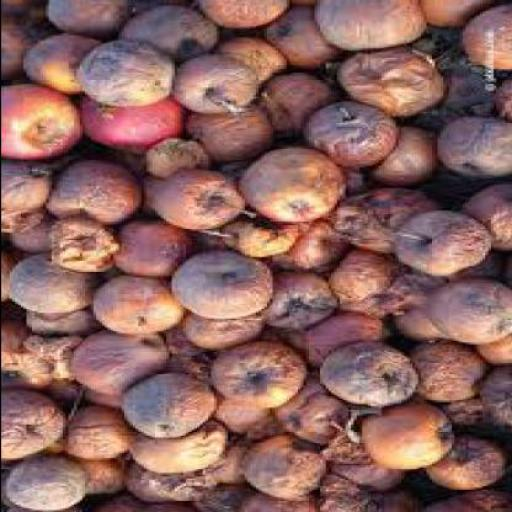biodegradable: (1, 1, 510, 511), (233, 147, 341, 226), (310, 338, 411, 414), (381, 208, 489, 278), (333, 50, 445, 117), (296, 100, 398, 172), (325, 190, 439, 254), (207, 341, 303, 417), (70, 327, 168, 399), (353, 402, 445, 477), (162, 255, 268, 320), (142, 169, 248, 233), (412, 47, 495, 128), (117, 372, 213, 442), (73, 99, 182, 155), (2, 84, 76, 164), (79, 41, 167, 108), (42, 164, 134, 228), (423, 280, 509, 348), (308, 2, 420, 52), (126, 420, 222, 477), (238, 436, 318, 504), (280, 314, 380, 368), (269, 382, 353, 446), (87, 278, 179, 336), (114, 10, 210, 64), (322, 251, 403, 315), (6, 258, 95, 316), (430, 118, 510, 182), (405, 340, 482, 404), (1, 390, 65, 465), (252, 77, 324, 143), (263, 12, 344, 70), (170, 60, 250, 118), (355, 129, 431, 190), (252, 274, 330, 333), (16, 39, 98, 95), (420, 436, 498, 494), (109, 219, 188, 276), (186, 112, 272, 164), (1, 462, 84, 510), (456, 2, 509, 74), (56, 408, 129, 460), (48, 219, 114, 276), (269, 221, 341, 270), (459, 186, 510, 253), (123, 464, 204, 506), (39, 2, 128, 39), (1, 164, 46, 236), (357, 276, 434, 318), (216, 220, 296, 259), (324, 456, 406, 494), (174, 317, 254, 354), (221, 38, 282, 86), (383, 292, 439, 343), (19, 335, 76, 385), (1, 324, 42, 391), (187, 2, 283, 30), (417, 2, 509, 31), (209, 396, 266, 438), (475, 365, 510, 430), (140, 142, 198, 178), (193, 445, 238, 488), (1, 22, 31, 86), (312, 476, 366, 511), (416, 491, 510, 511), (25, 314, 89, 340), (184, 484, 248, 510), (3, 218, 47, 255), (444, 397, 482, 434), (80, 460, 118, 495), (188, 225, 232, 255), (470, 336, 510, 368), (235, 494, 314, 510), (321, 432, 356, 468), (1, 248, 22, 306), (123, 2, 193, 19), (333, 168, 370, 200), (1, 1, 46, 22), (484, 250, 509, 287), (372, 490, 414, 511), (492, 72, 510, 120), (97, 497, 138, 511), (134, 501, 191, 511), (283, 2, 310, 12)
